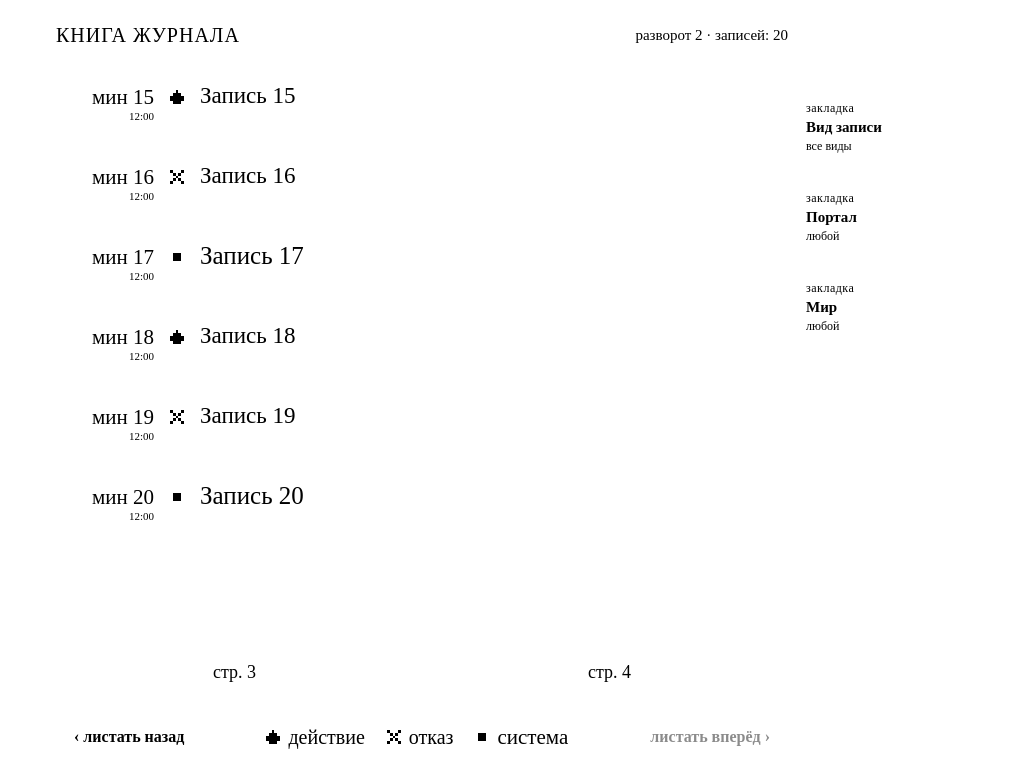
it: Книга журнала (spec §8, §9) › страницы и разворот › листание назад к старым и вперёд к новым; на краях кнопка неактивна
Check: the button with aria-label "Следующий разворот" is disabled, box x1=632 y1=715 x2=788 y2=759
Click the button with aria-label "Предыдущий разворот" at (129, 737), box x1=56 y1=715 x2=202 y2=759
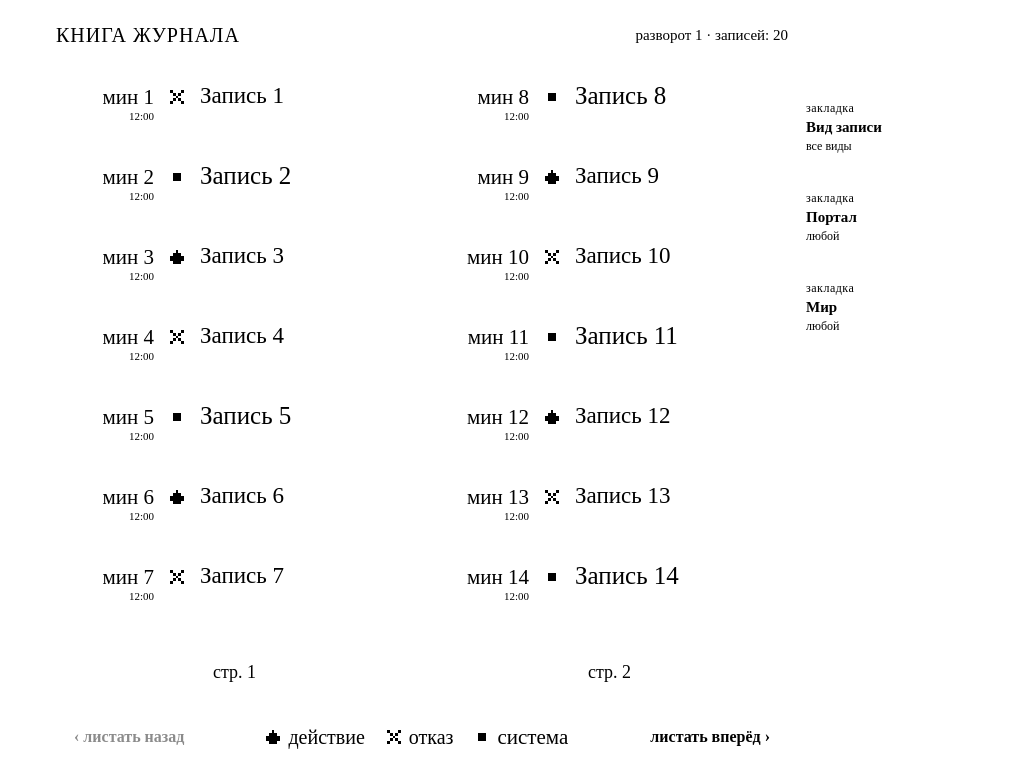
Check: the button with aria-label "Предыдущий разворот" is disabled, box x1=56 y1=715 x2=202 y2=759
Check: the button with aria-label "Следующий разворот" is enabled
Click the button with aria-label "Следующий разворот" at (710, 737), box x1=632 y1=715 x2=788 y2=759
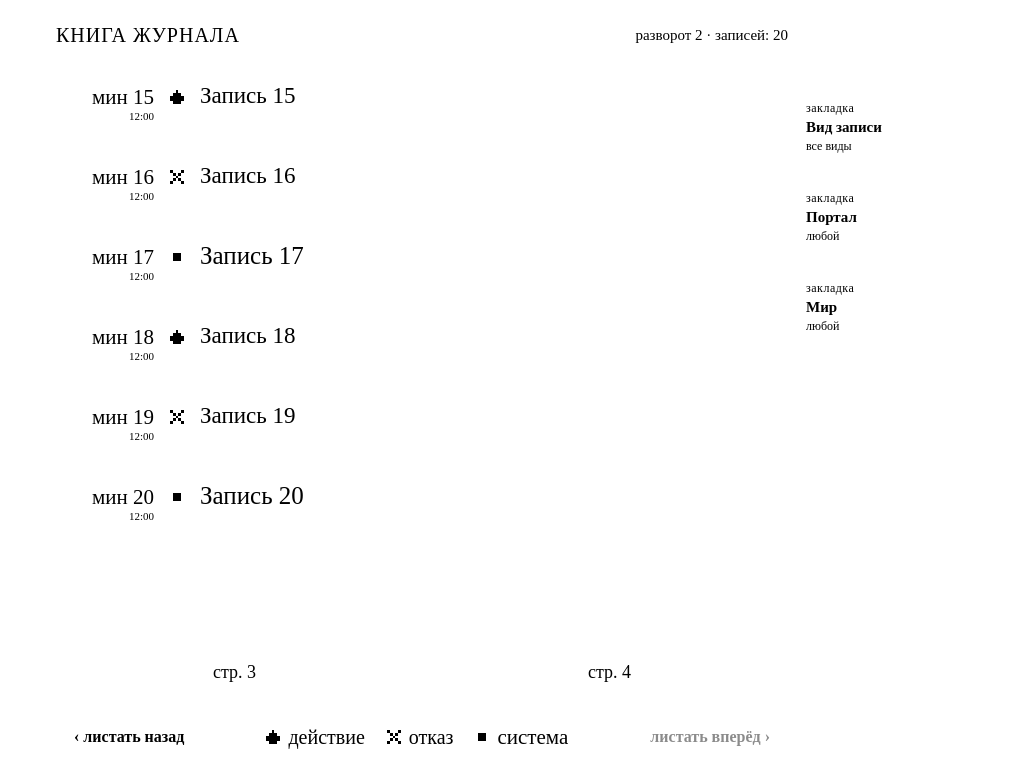
Check: the text "разворот 2 · записей: 20" is shown, box x1=635 y1=27 x2=788 y2=44
